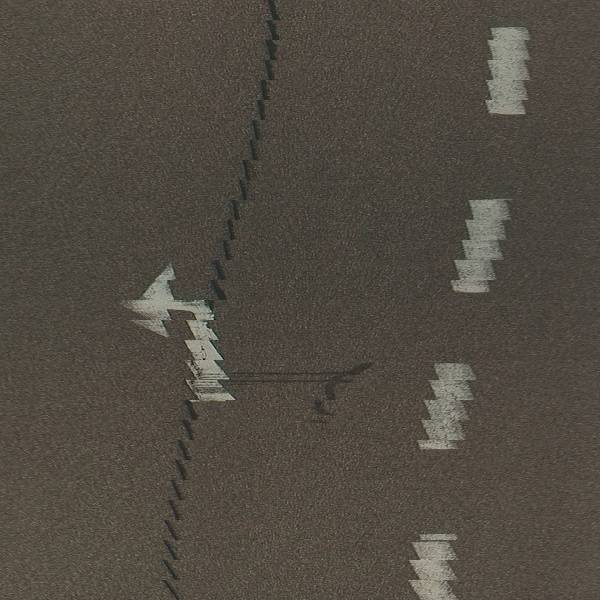road_damage: (278, 350, 384, 428)
